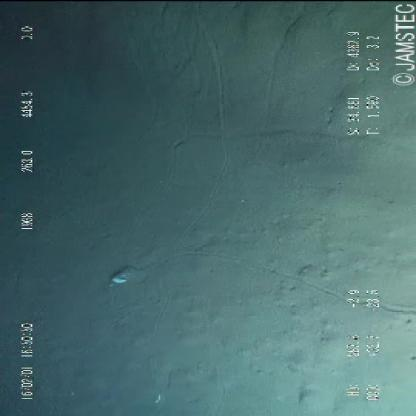Rác: (100, 257, 150, 291)
